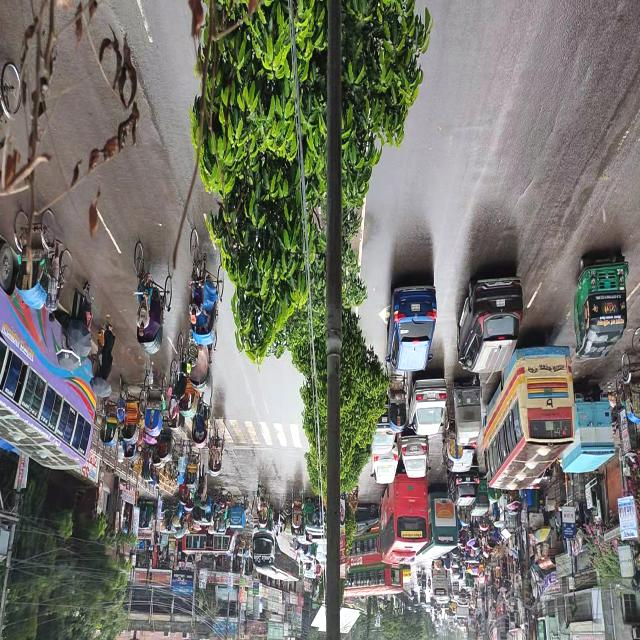black: (458, 267, 520, 375)
blue: (387, 276, 438, 373)
